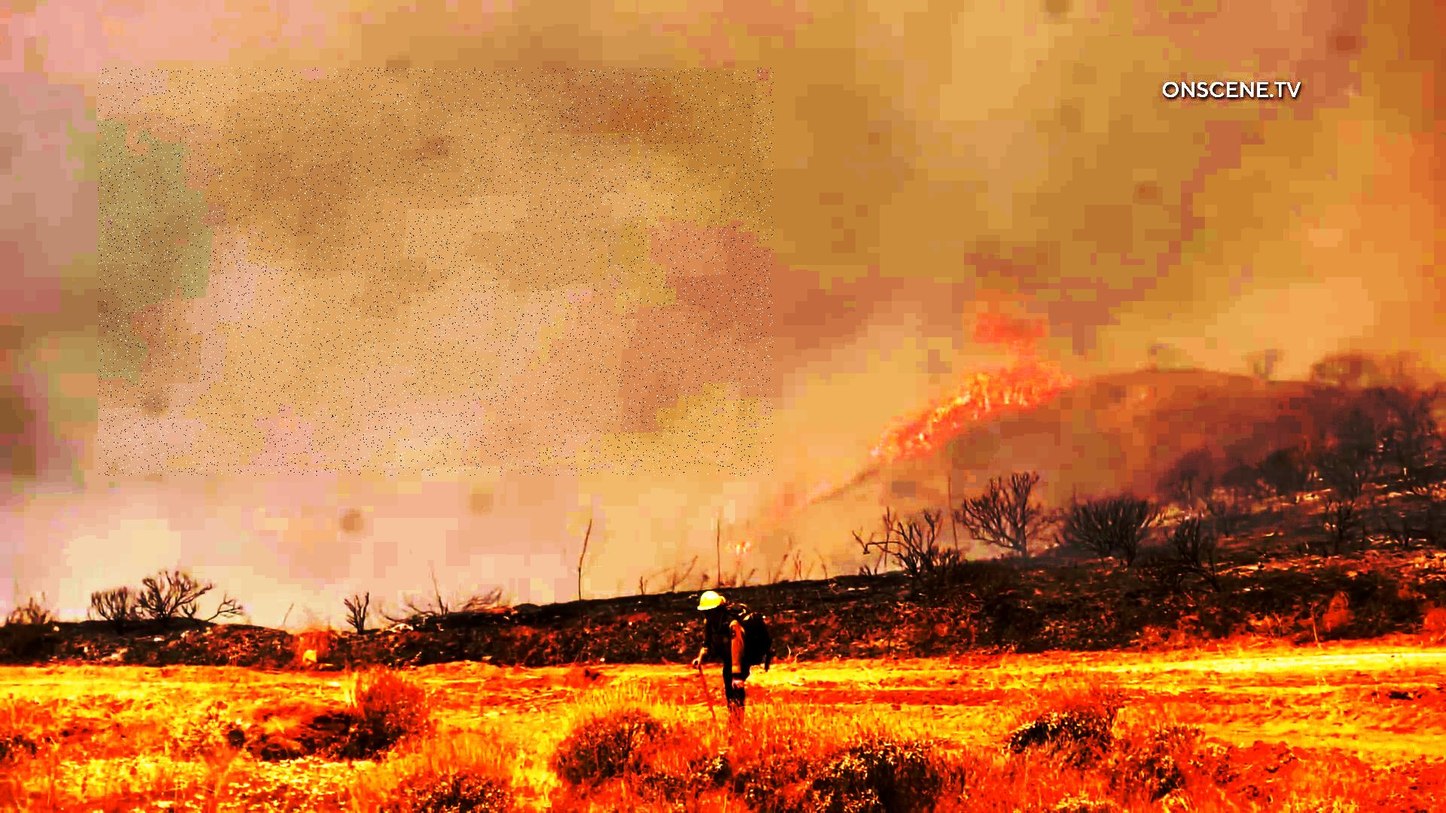smoke: (98, 68, 774, 476)
